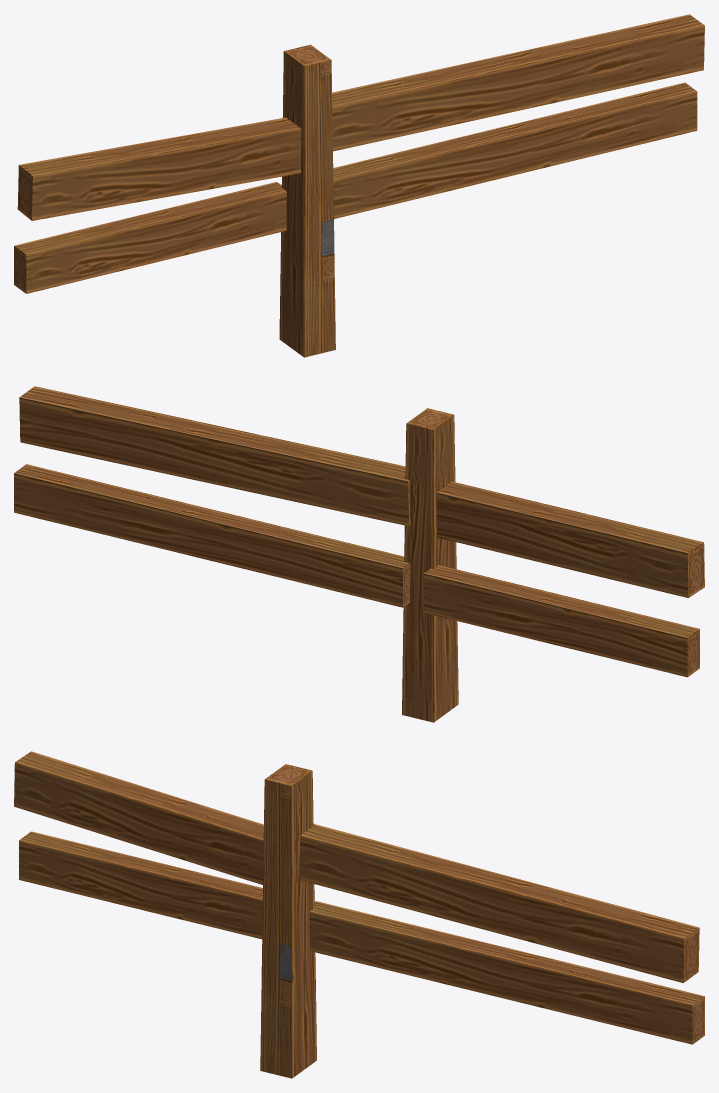
The picture shows the model from 3 angles, top to bottom: view 1: azimuth 30°, elevation 25°; view 2: azimuth 150°, elevation 25°; view 3: azimuth 330°, elevation 25°; orthographic projection.
Parts seen in each view (by area): view 1: Cube.1627; view 2: Cube.1627; view 3: Cube.1627.
Part boxes in pixels (<box>): Cube.1627: <box>14,14,704,357</box>; Cube.1627: <box>14,386,704,722</box>; Cube.1627: <box>14,751,704,1078</box>.
Bounding box in the file's own units: 345 × 142 × 27.82.
Materials: 1 (1 with a texture image).
